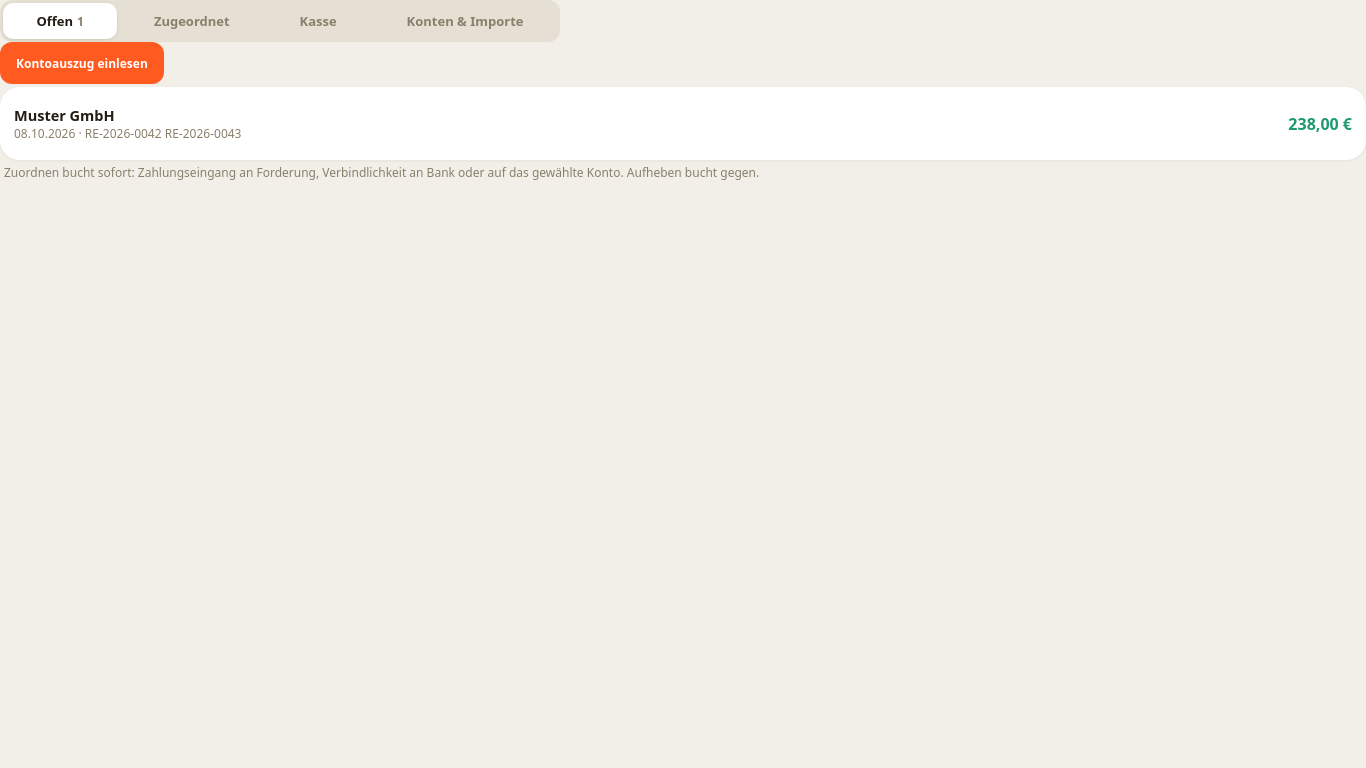
FinanceBank › Sammelzuordnung: zwei Rechnungen aus einem Eingang
Click the text "Muster GmbH" at (64, 115), box [14, 105, 115, 125]
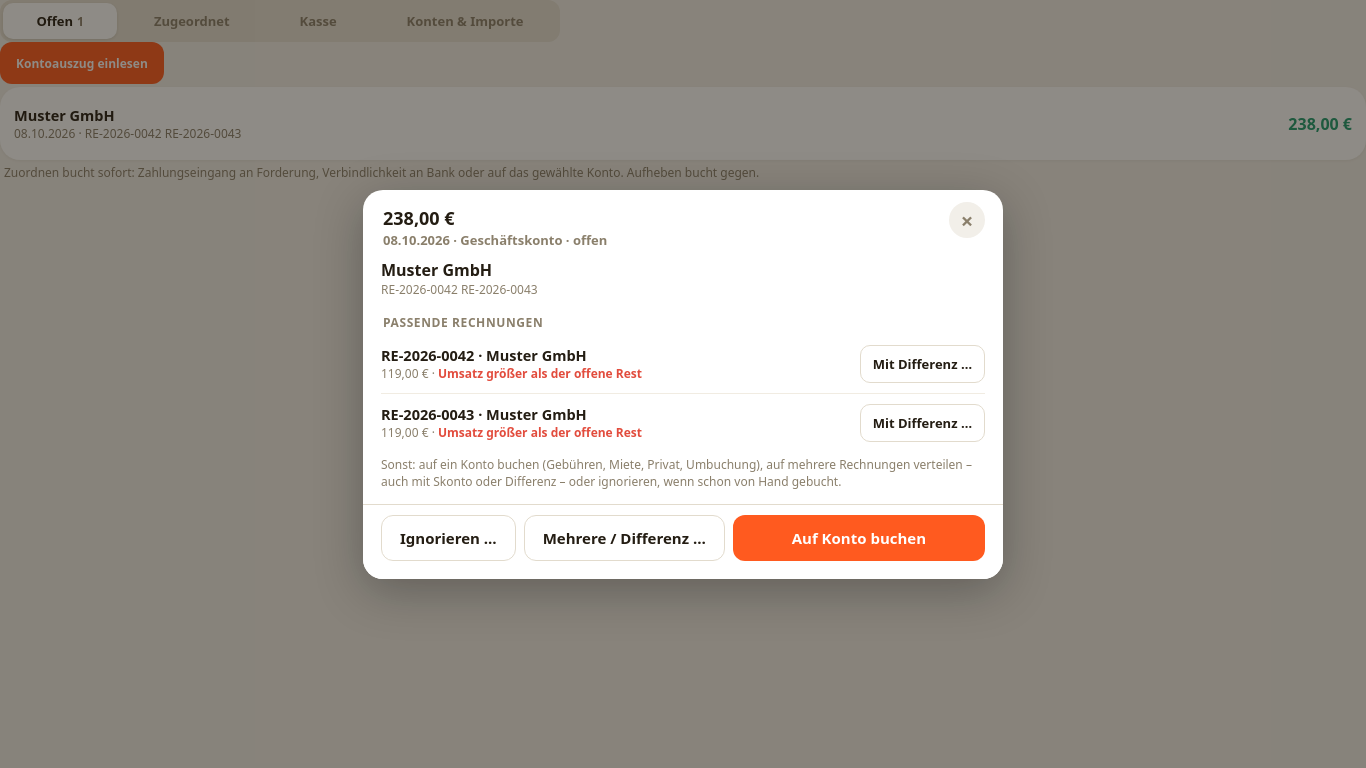
Click the button "Mehrere / Differenz …" at (624, 538), box [524, 514, 725, 560]
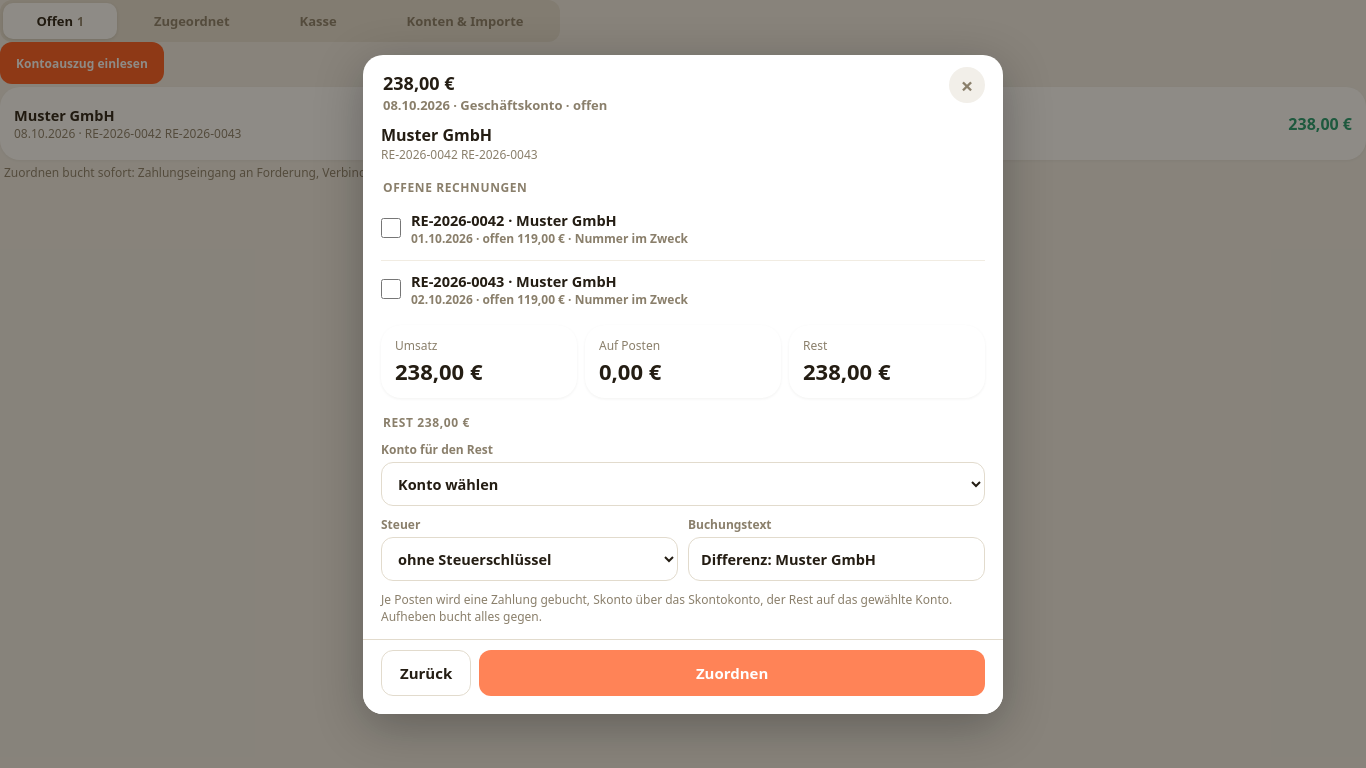
Click the checkbox named "RE-2026-0042 · Muster GmbH wählen" at (391, 228), box [381, 218, 401, 238]
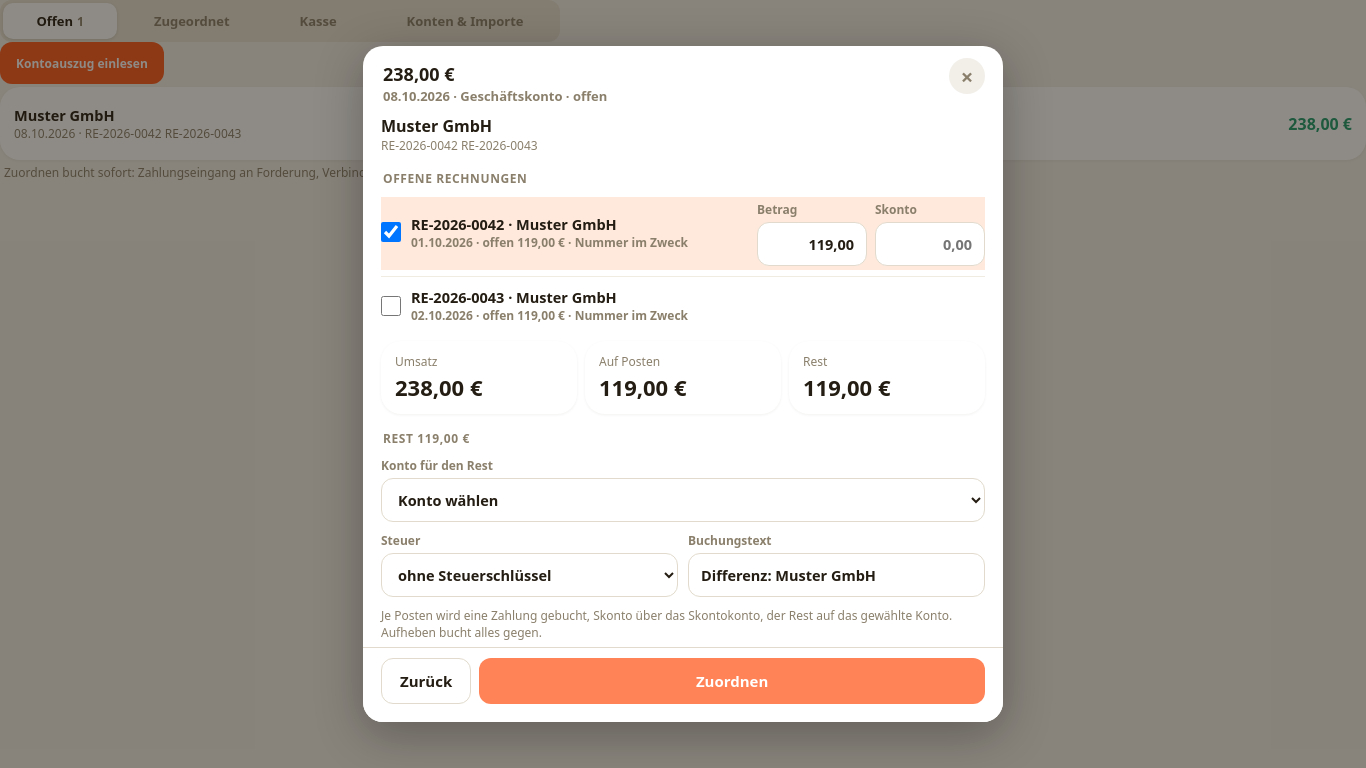
Click the checkbox named "RE-2026-0043 · Muster GmbH wählen" at (391, 306), box [381, 296, 401, 316]
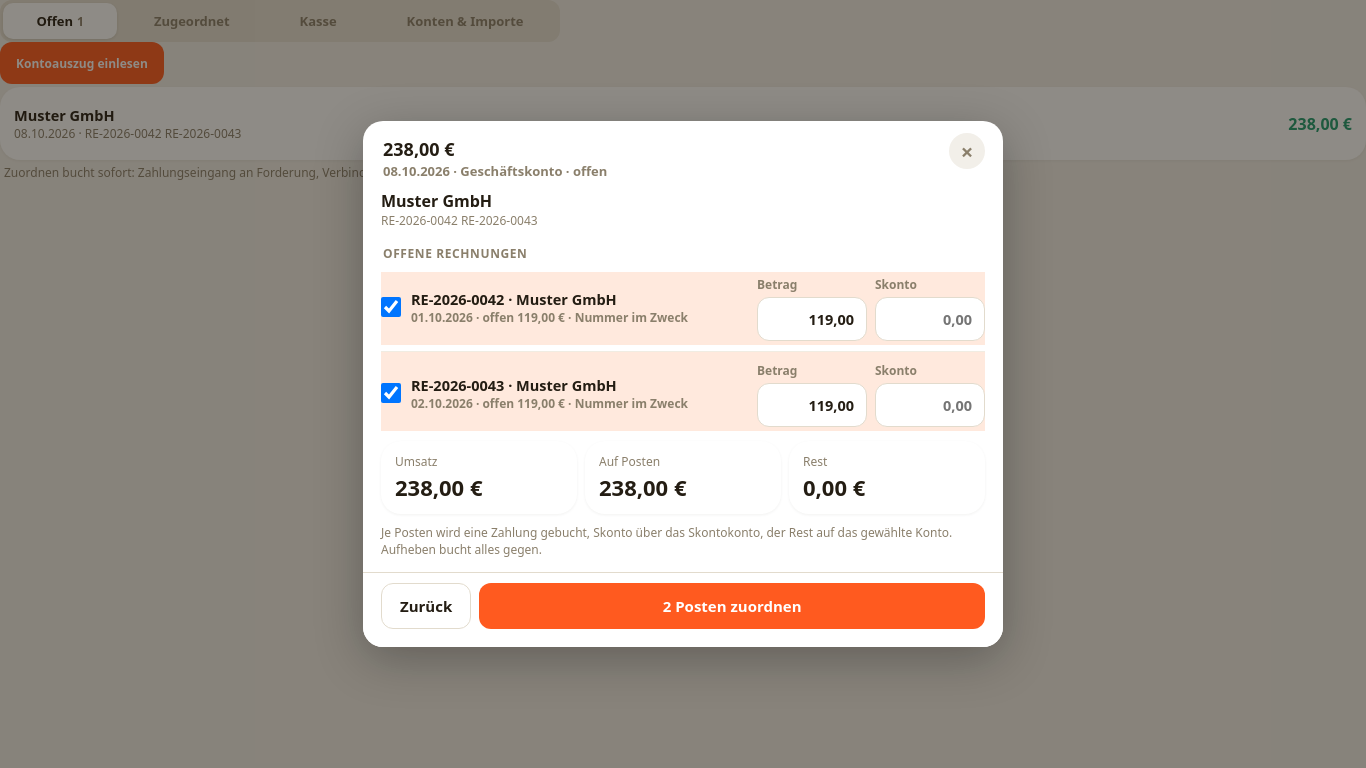
Expected: the field named "Betrag RE-2026-0043 · Muster GmbH" holds "119,00", [757, 383, 867, 427]
Click the button "2 Posten zuordnen" at (732, 606), box [479, 583, 985, 629]
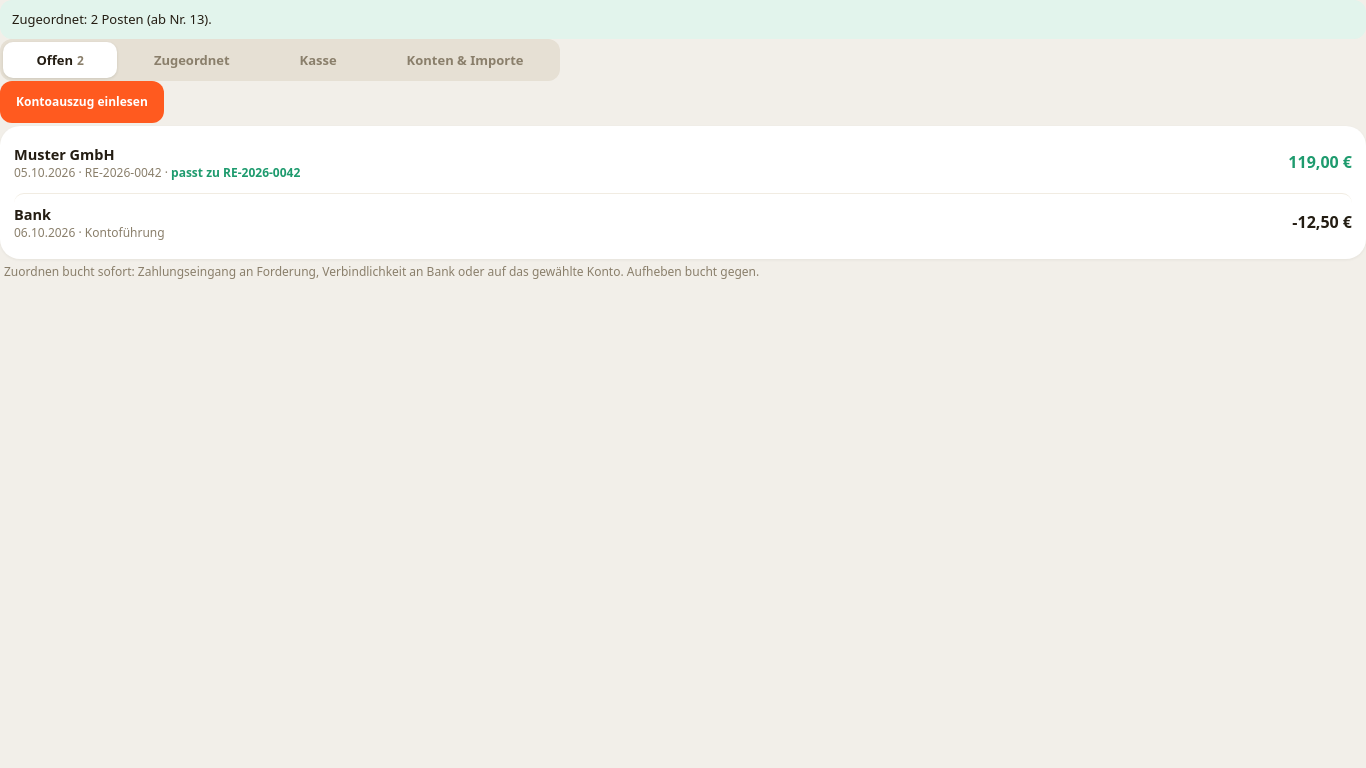
Expected: the text "Zugeordnet: 2 Posten (ab Nr. 13)." is shown, [0, 0, 1365, 39]
